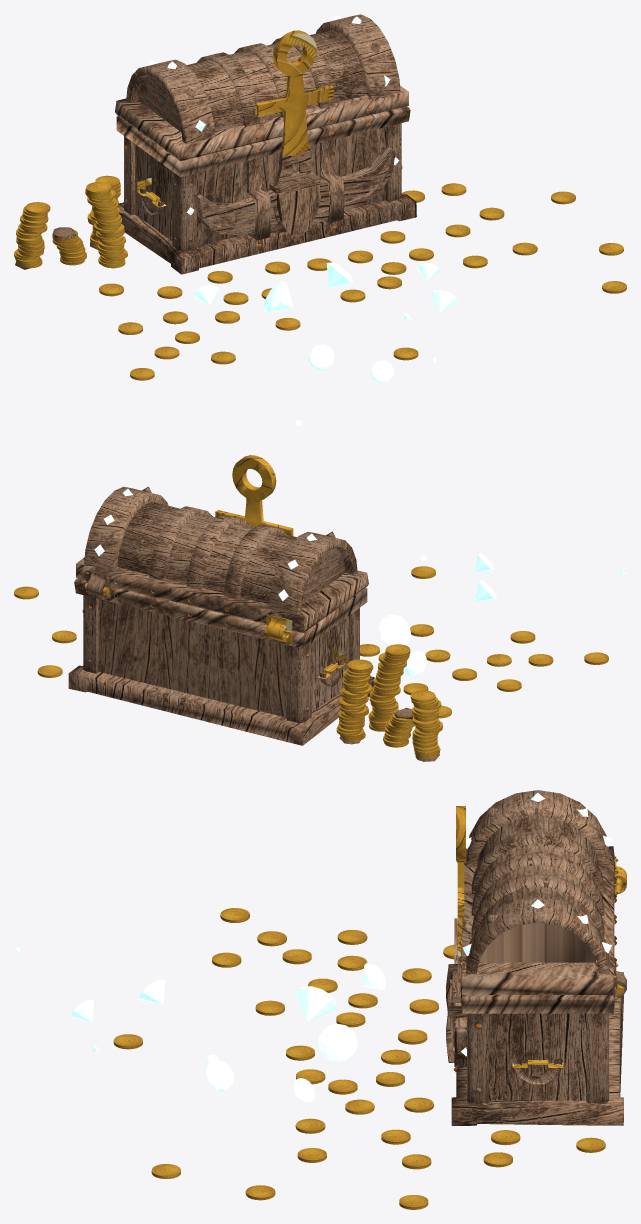
Rendered from treasure-chest.glb.
3 views of the same model, one above another, from view 1: azimuth 30°, elevation 25°; view 2: azimuth 150°, elevation 25°; view 3: azimuth 270°, elevation 25° (orthographic). The views are drawn at different scales.
Visible parts, largest first — view 1: chest; view 2: chest; view 3: chest.
Boxes of the visible parts, x1,y1,x2,y2 form: chest: (14, 14, 626, 426); chest: (14, 455, 626, 761); chest: (14, 790, 626, 1209).
Size of the model in its own units: 1.5 by 0.5931 by 1.3.
Materials: 4 (3 with a texture image).
